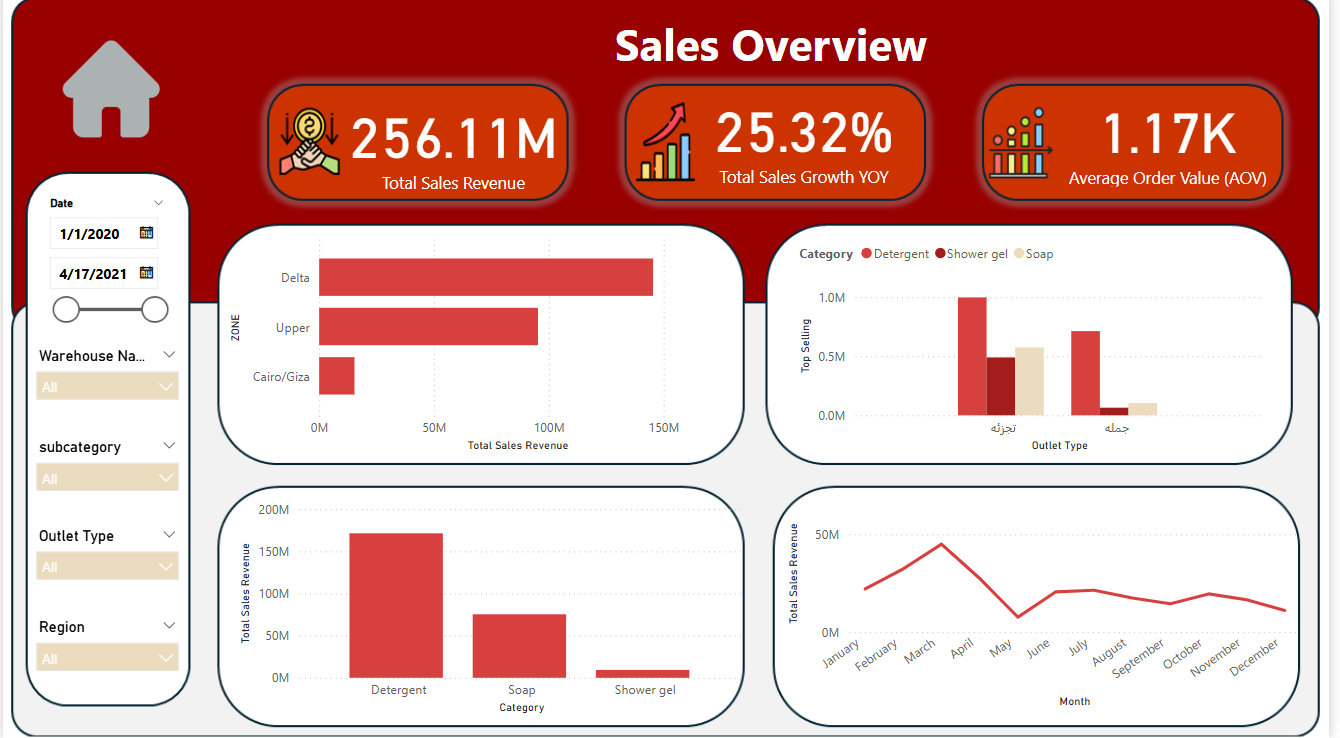

The dashboard page shown, as its layout file describes it:
{"tool":"powerbi","page":{"name":"Sales Overview","canvas":[1280,720],"ordinal":1},"visuals":[{"type":"textbox","box":[533.9,14.9,413.6,73],"z":0},{"type":"card","fields":{"Values":["_Measures.Total Sales Revenue"]},"box":[312.5,88.1,244.9,112.2],"z":1000},{"type":"card","fields":{"Values":["_Measures.Total Sales Growth YOY"]},"box":[647.9,85.7,250.9,106.2],"z":2000},{"type":"card","fields":{"Values":["_Measures.Average Order Value (AOV)"]},"box":[1005,86.9,238.9,105],"z":3000},{"type":"image","box":[9.7,41,189.4,103.8],"z":4000},{"type":"clusteredBarChart","fields":{"Category":["Reps List.ZONE"],"Y":["_Measures.Total Sales Revenue"]},"box":[213.5,224.4,497.1,223.2],"z":5000},{"type":"clusteredColumnChart","fields":{"Y":["_Measures.Top Selling"],"Category":["Outlets.Outlet Type"],"Series":["Products.Category"]},"box":[763.7,231.6,458.4,216],"z":6000},{"type":"lineChart","title":"Sales Over Years","fields":{"Y":["_Measures.Total Sales Revenue"],"Category":["Calender.Date.Variation.Date Hierarchy.Year","Calender.Date.Variation.Date Hierarchy.Quarter","Calender.Date.Variation.Date Hierarchy.Month","Calender.Date.Variation.Date Hierarchy.Day"]},"box":[752.8,489.8,504.3,205.1],"z":7000},{"type":"clusteredColumnChart","title":"Sales by Category","fields":{"Category":["Products.Category"],"Y":["_Measures.Total Sales Revenue"]},"box":[223.2,483.8,497.1,217.2],"z":8000},{"type":"slicer","fields":{"Values":["Calender.Date"]},"box":[32.6,191.8,135.1,136.3],"z":9000},{"type":"slicer","fields":{"Values":["Warehouses.Warehouse Name"]},"box":[21.7,336.6,158,72.4],"z":10000},{"type":"slicer","fields":{"Values":["Products.subcategory"]},"box":[21.7,424.7,158,71.2],"z":11000},{"type":"slicer","fields":{"Values":["Outlets.Outlet Type"]},"box":[21.7,510.3,158,71.2],"z":12000},{"type":"slicer","fields":{"Values":["Warehouses.Region"]},"box":[21.7,598.4,158,72.4],"z":13000}]}

Visuals, with their boxes in screenshot pixels (x1, y1, x2, y2), scaled from the page's 1280x720 canvas onto the 1340x738 screenshot:
textbox: <bbox>559, 15, 992, 90</bbox>
card - _Measures.Total Sales Revenue: <bbox>327, 90, 584, 205</bbox>
card - _Measures.Total Sales Growth YOY: <bbox>678, 88, 941, 197</bbox>
card - _Measures.Average Order Value (AOV): <bbox>1052, 89, 1302, 197</bbox>
image: <bbox>10, 42, 208, 148</bbox>
clusteredBarChart - Reps List.ZONE x _Measures.Total Sales Revenue: <bbox>224, 230, 744, 459</bbox>
clusteredColumnChart - _Measures.Top Selling x Outlets.Outlet Type: <bbox>799, 237, 1279, 459</bbox>
"Sales Over Years" lineChart: <bbox>788, 502, 1316, 712</bbox>
"Sales by Category" clusteredColumnChart: <bbox>234, 496, 754, 719</bbox>
slicer - Calender.Date: <bbox>34, 197, 176, 336</bbox>
slicer - Warehouses.Warehouse Name: <bbox>23, 345, 188, 419</bbox>
slicer - Products.subcategory: <bbox>23, 435, 188, 508</bbox>
slicer - Outlets.Outlet Type: <bbox>23, 523, 188, 596</bbox>
slicer - Warehouses.Region: <bbox>23, 613, 188, 688</bbox>
